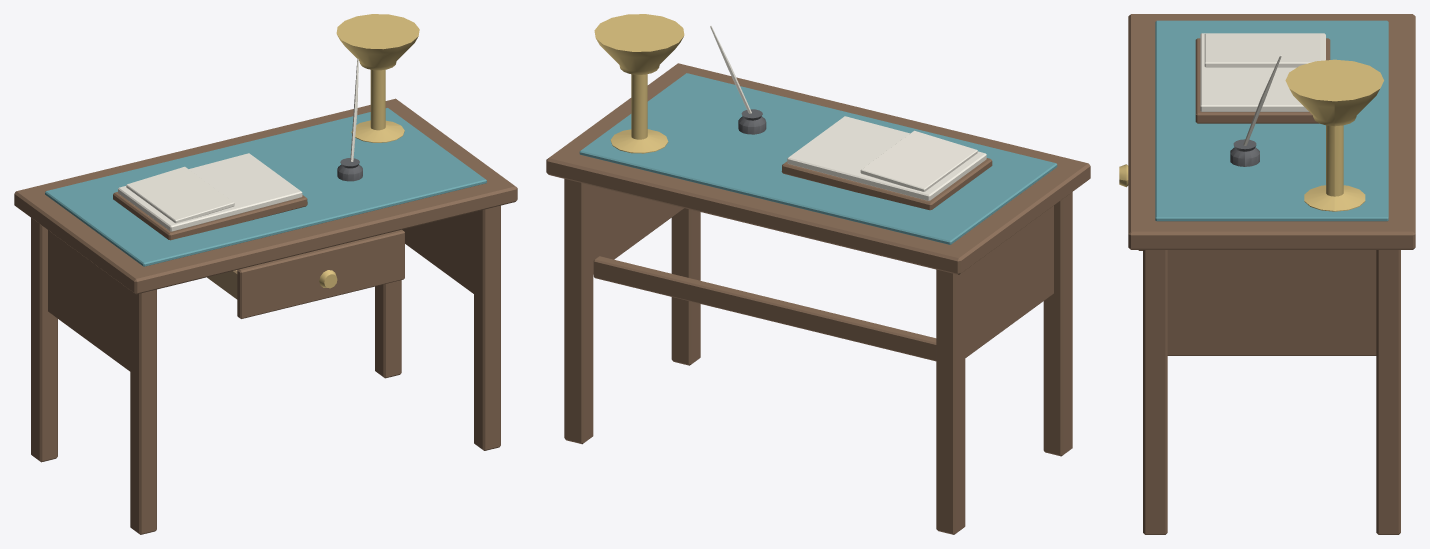
Rendered from escape-room-and-puzzle-venue-study-desk-with-ledger-50b3468c__35794.glb.
3 renders of one model, left to right at view 1: azimuth 30°, elevation 25°; view 2: azimuth 150°, elevation 25°; view 3: azimuth 270°, elevation 25°, orthographic. The views are drawn at different scales.
Parts seen in each view (by area): view 1: study-desk-with-ledger, drawer/walnut; view 2: study-desk-with-ledger; view 3: study-desk-with-ledger.
Boxes of the visible parts, x1=… form: study-desk-with-ledger: x1=14, y1=14, x2=517, y2=534; drawer/walnut: x1=237, y1=229, x2=404, y2=318; study-desk-with-ledger: x1=546, y1=14, x2=1090, y2=534; study-desk-with-ledger: x1=1128, y1=14, x2=1415, y2=534.
Size of the model in its own units: 1.16 by 1.06 by 0.66.
